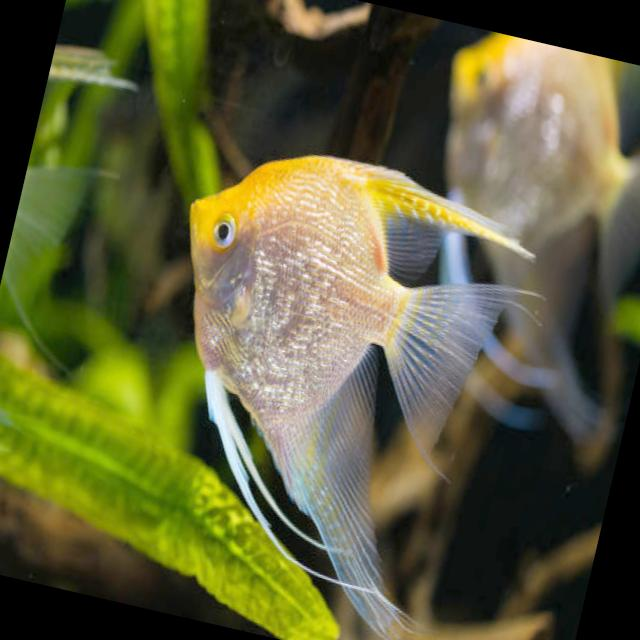AngelFish: (104, 125, 569, 640), (378, 25, 640, 448)
